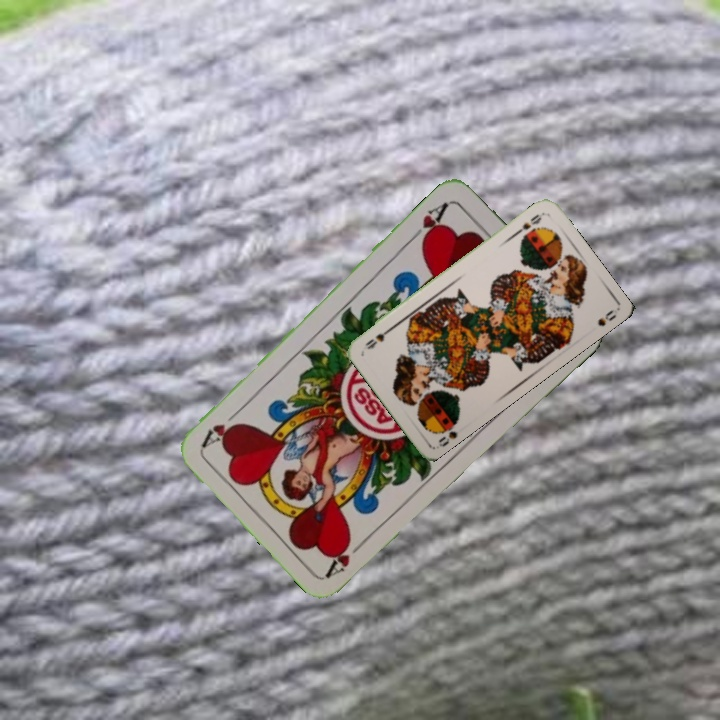HA: (405, 197, 452, 247), (322, 533, 370, 579)
SO: (432, 414, 462, 449), (510, 209, 546, 238)
